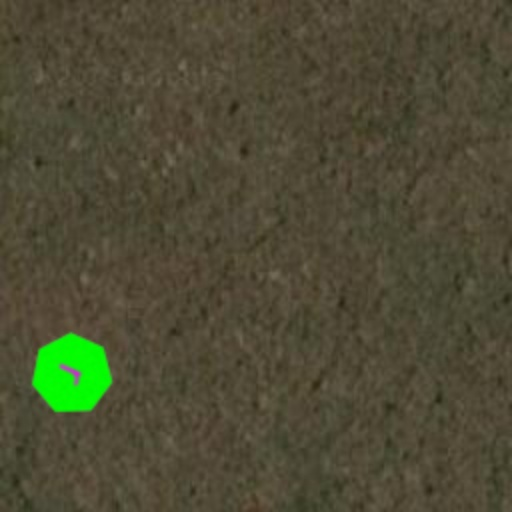heptagon: (16, 318, 128, 430)
